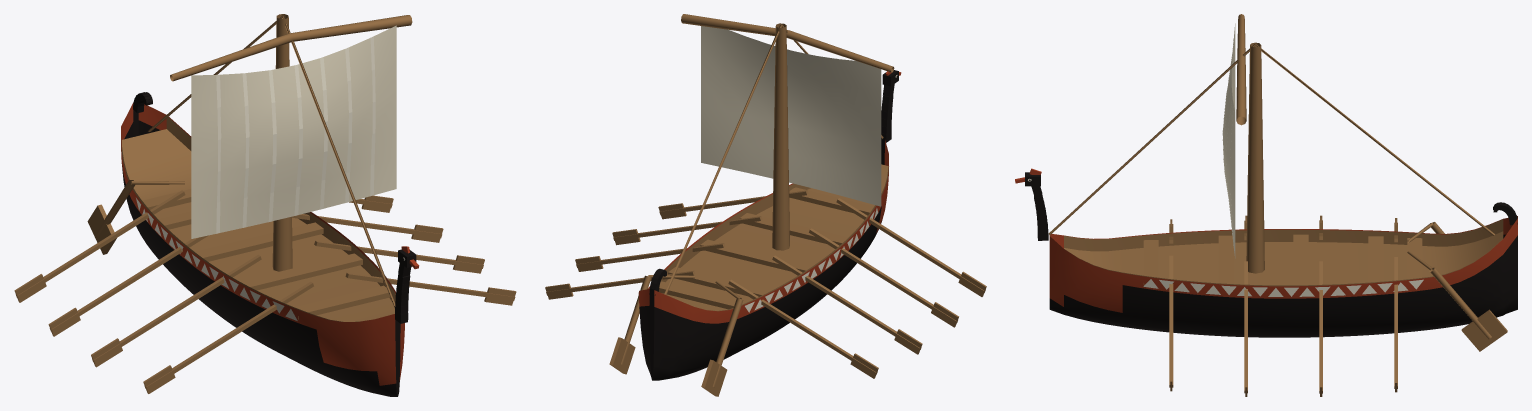
Rendered from ship_cutter_blockout_LOD0.obj.
3 renders of one model, left to right at view 1: azimuth 30°, elevation 25°; view 2: azimuth 150°, elevation 25°; view 3: azimuth 270°, elevation 25°, orthographic. The views are drawn at different scales.
Parts seen in each view (by area): view 1: ship_cutter_blockout_LOD0; view 2: ship_cutter_blockout_LOD0; view 3: ship_cutter_blockout_LOD0.
Part boxes in pixels (x1,y1,x2,y2): ship_cutter_blockout_LOD0: [14, 14, 516, 396]; ship_cutter_blockout_LOD0: [545, 14, 986, 396]; ship_cutter_blockout_LOD0: [1015, 14, 1517, 396].
Bounding box in the file's own units: 9.68 × 7.46 × 11.97.
